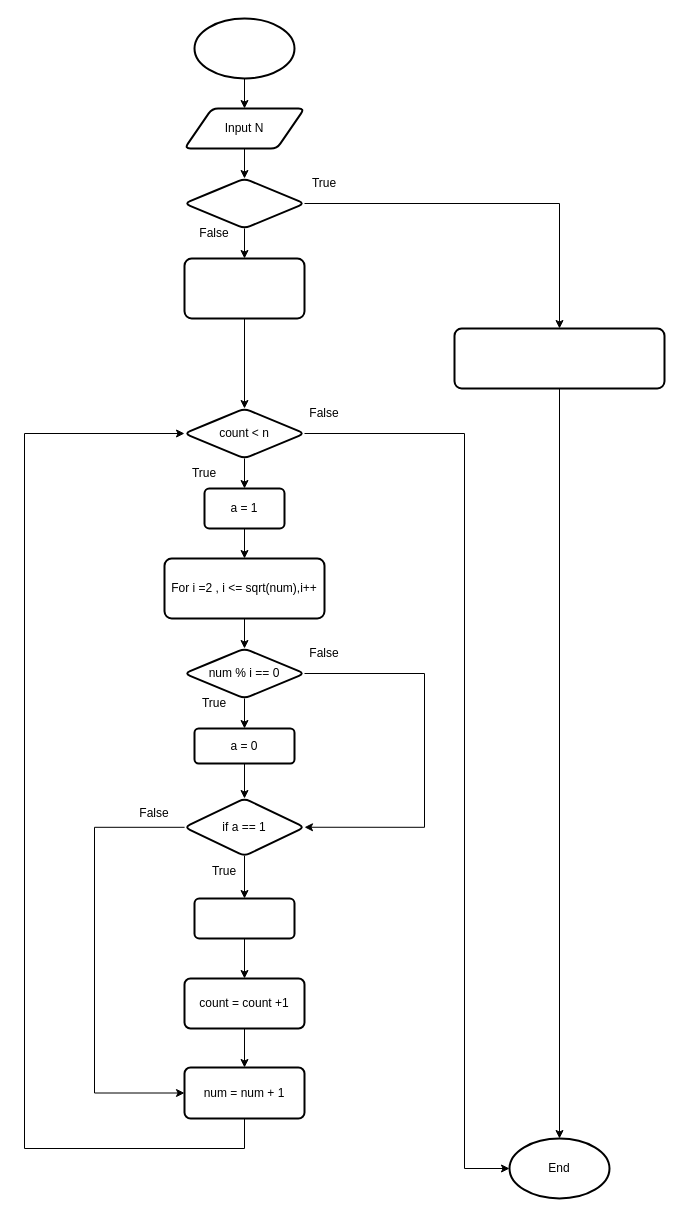
Image size: 683x1216. Some labels were removed from this diagram. The centre of each missing label's shape, as x and y in pixels:
"count=0 num=2" goes at pixel 244 288.
"if N <= 0" goes at pixel 244 203.
"Print(Num)" goes at pixel 244 918.
"Print(Vui lòng nhập số nguyên dương)" goes at pixel 559 358.
"Start" goes at pixel 244 48.
